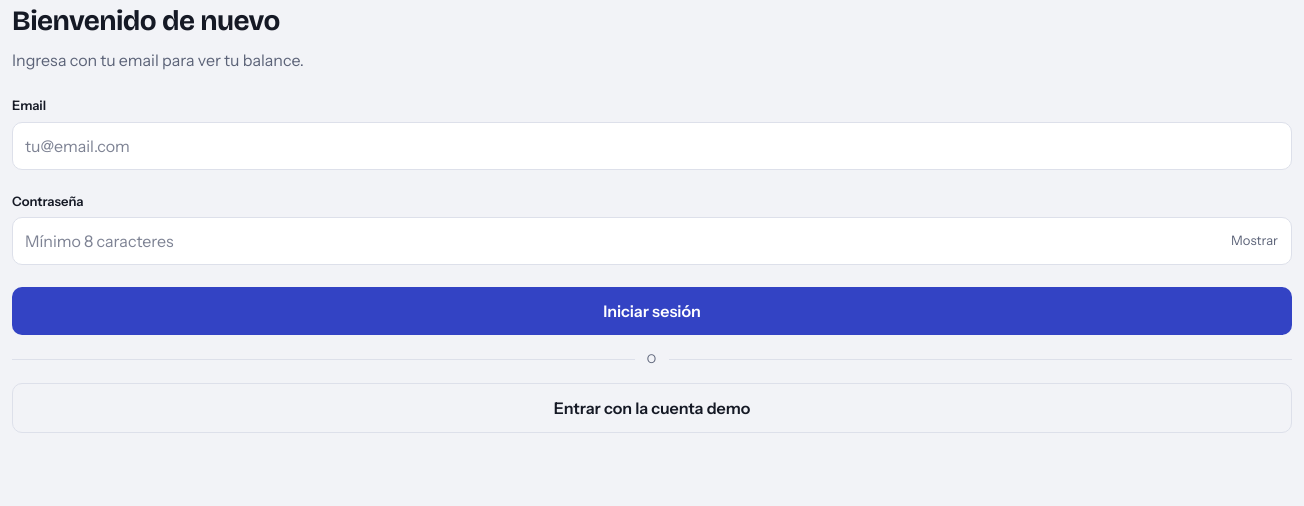
Scenario: LoginComponent › otro error muestra mensaje de conexión
Type "ana@email.com" into the field with id "email".
click(652, 146); type("ana@email.com")  # box [12,122,1292,170]
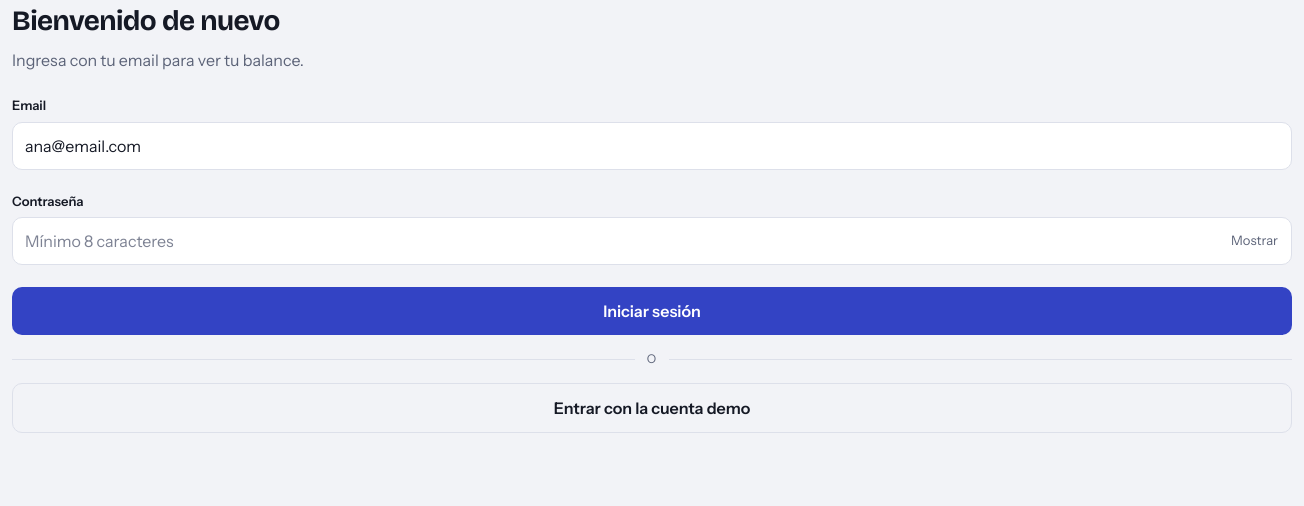
Type "12345678" into the password field labelled "Contraseña".
click(652, 241); type("12345678")  # box [12,217,1292,265]
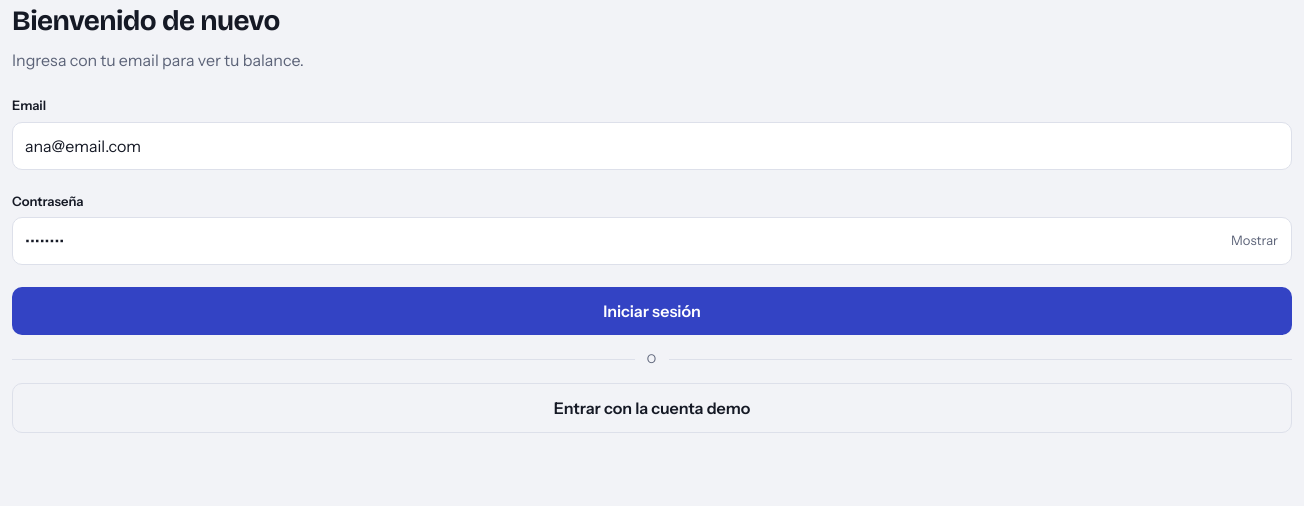
Submit the form
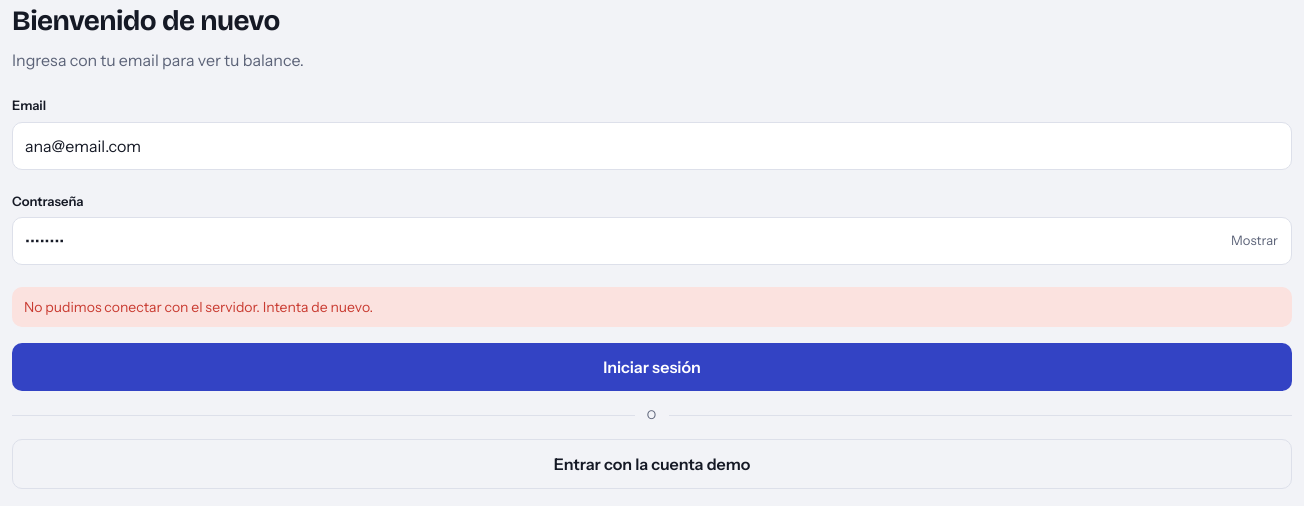
expect the message "No pudimos conectar con el servidor. Intenta de nuevo." is shown: met, box [12,287,1292,327]
